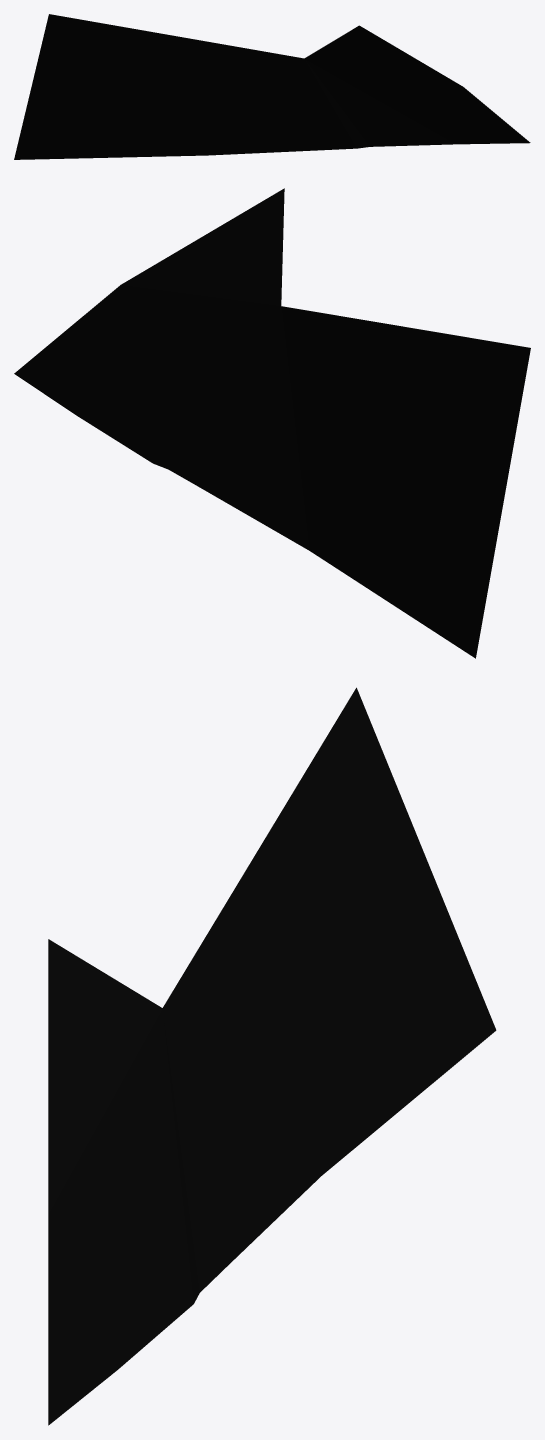
3 renders of one model, top to bottom at view 1: azimuth 30°, elevation 25°; view 2: azimuth 150°, elevation 25°; view 3: azimuth 270°, elevation 25°, orthographic. The views are drawn at different scales.
Bounding box in the file's own units: 9.39 × 3.8 × 4.5.
Materials: 1 (1 with a texture image).
